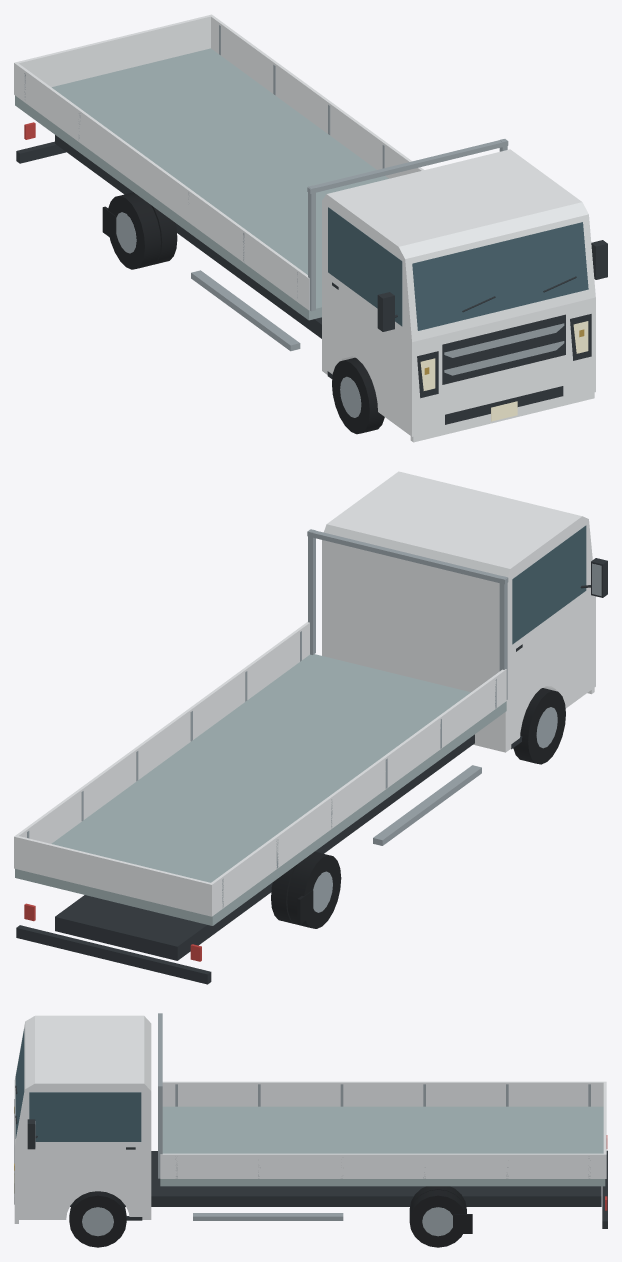
Rendered from truck4t.glb.
The picture shows the model from 3 angles, top to bottom: view 1: azimuth 30°, elevation 25°; view 2: azimuth 150°, elevation 25°; view 3: azimuth 270°, elevation 25°; orthographic projection. The views are drawn at different scales.
Visible parts, largest first — view 1: cab, flatbed-floor, sideboard (×2), windshield, tailgate, tire (×3), side-window, grille, chassis, grille-slats (×2), headboard-top, side-underrun-guard (+6 smaller); view 2: flatbed-floor, cab, sideboard (×2), chassis, tailgate, tire (×3), side-window, rear-bumper, headboard (×2), headboard-top, side-underrun-guard; view 3: flatbed-floor, sideboard (×2), cab, chassis, side-window, tire (×3), wheel-hub (×2), side-underrun-guard, windshield, headboard, mudflap, tailgate (+1 smaller).
Boxes of the visible parts, bbox=[...] form: cab: bbox=[322, 149, 595, 436]; flatbed-floor: bbox=[15, 48, 388, 320]; sideboard (×2): bbox=[15, 15, 424, 310]; windshield: bbox=[412, 222, 588, 330]; tailgate: bbox=[14, 14, 213, 94]; tire (×3): bbox=[108, 192, 384, 434]; side-window: bbox=[328, 207, 402, 326]; grille: bbox=[442, 314, 565, 384]; chassis: bbox=[55, 135, 321, 338]; grille-slats (×2): bbox=[444, 323, 564, 375]; headboard-top: bbox=[307, 139, 508, 193]; side-underrun-guard: bbox=[191, 270, 300, 351]; flatbed-floor: bbox=[15, 654, 506, 925]; cab: bbox=[322, 471, 595, 752]; sideboard (×2): bbox=[15, 621, 506, 915]; chassis: bbox=[55, 734, 474, 960]; tailgate: bbox=[14, 836, 213, 916]; tire (×3): bbox=[271, 688, 565, 928]; side-window: bbox=[512, 525, 586, 644]; rear-bumper: bbox=[16, 925, 211, 984]; headboard (×2): bbox=[308, 529, 507, 699]; headboard-top: bbox=[307, 529, 508, 584]; side-underrun-guard: bbox=[373, 765, 481, 845]; flatbed-floor: bbox=[160, 1106, 605, 1186]; sideboard (×2): bbox=[160, 1081, 605, 1178]; cab: bbox=[14, 1015, 151, 1219]; chassis: bbox=[70, 1151, 601, 1206]; side-window: bbox=[29, 1092, 141, 1141]; tire (×3): bbox=[69, 1186, 466, 1247]; wheel-hub (×2): bbox=[82, 1207, 452, 1236]; side-underrun-guard: bbox=[193, 1213, 343, 1220]; windshield: bbox=[15, 1029, 24, 1138]; headboard: bbox=[158, 1084, 162, 1178]; mudflap: bbox=[453, 1214, 472, 1233]; tailgate: bbox=[603, 1081, 606, 1178].
Size of the model in its own units: 2.81 by 2.55 by 8.48.
